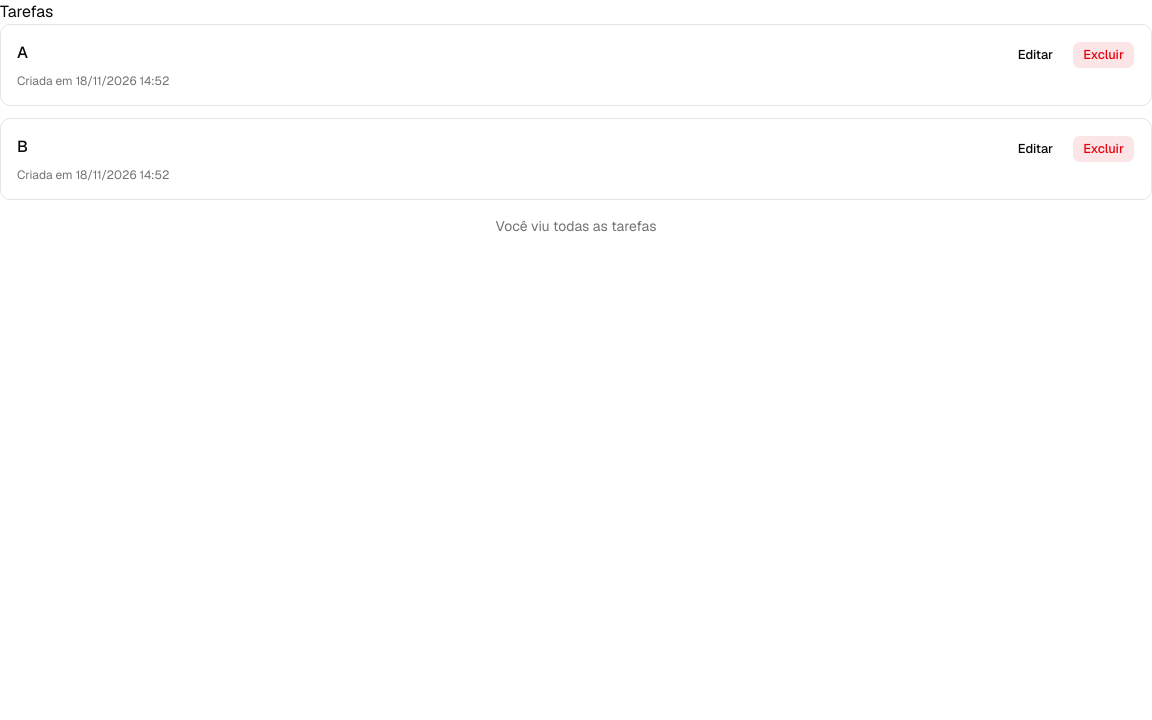
Test case: fluxo de exclusão › erro inesperado: toast genérico, diálogo fecha e o item permanece
The width and height of the screenshot is (1152, 720).
Click the button with aria-label "Excluir A" at [1104, 55], box x1=1072 y1=41 x2=1135 y2=69
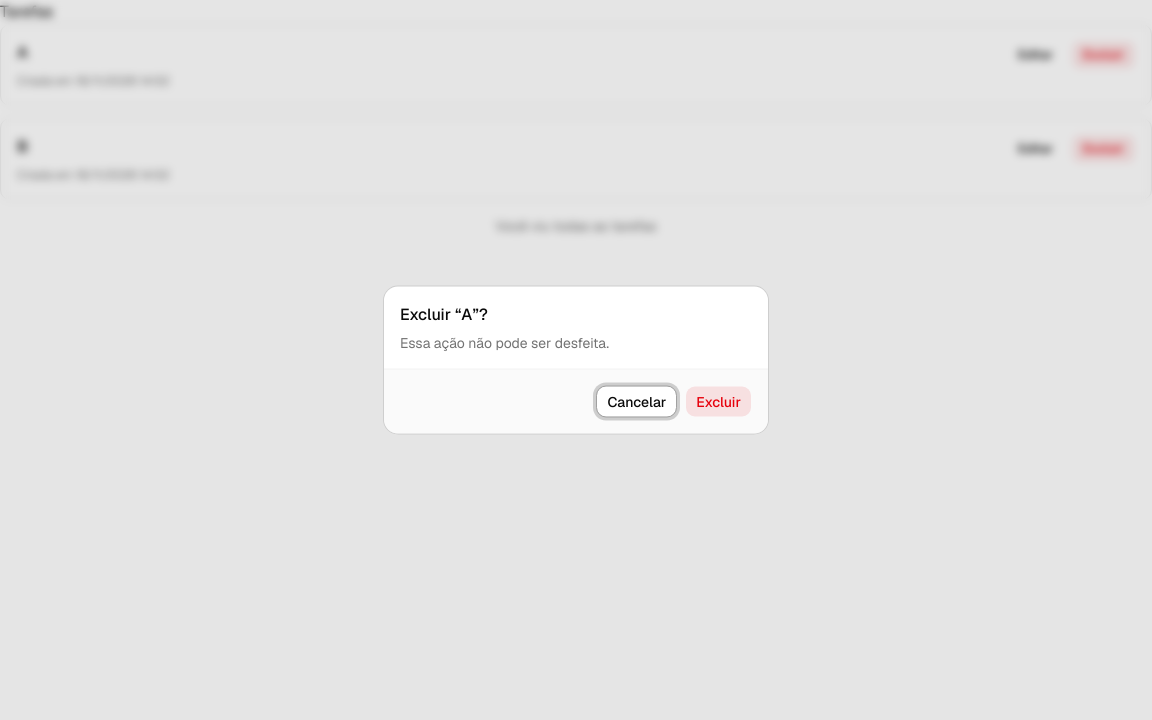
Click the button "Excluir" at [719, 402], box x1=685 y1=386 x2=752 y2=418
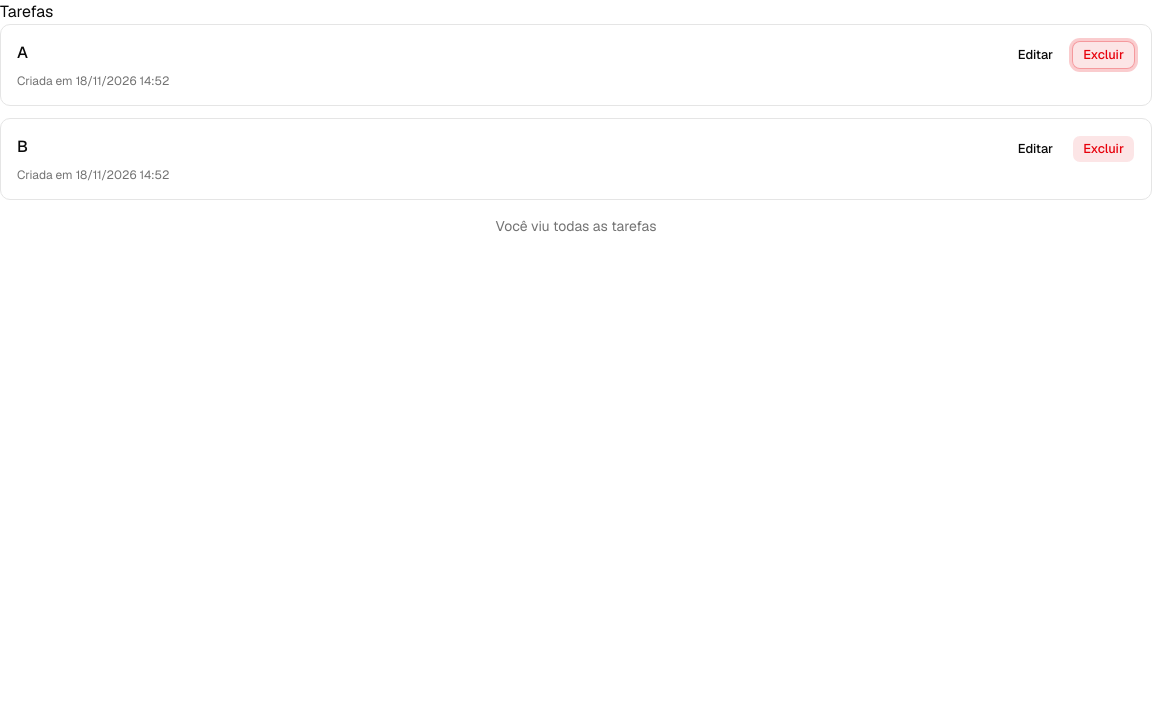
Expected: the heading "A" is shown, x1=17 y1=42 x2=28 y2=63
Expected: the dialog is gone
